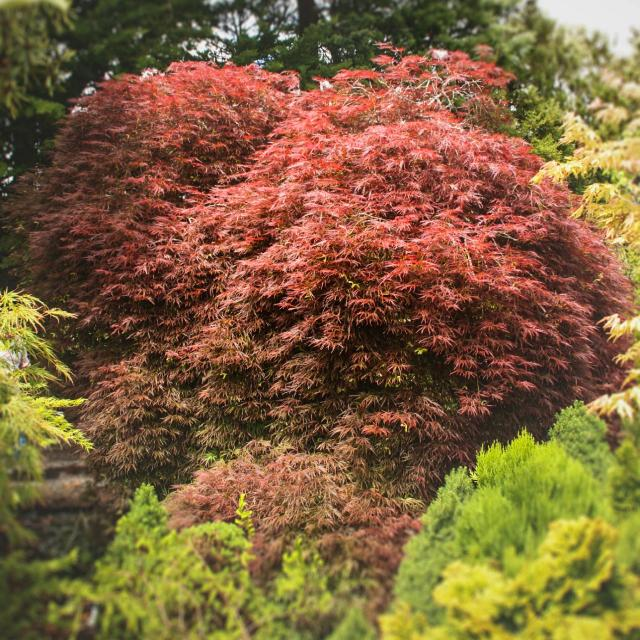Dissectum syn Atropurpurea: (88, 98, 622, 431)
